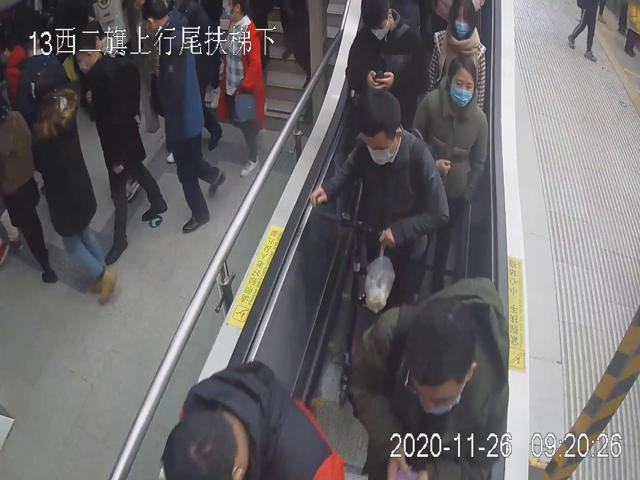person: (307, 84, 452, 320), (346, 273, 508, 480), (409, 53, 488, 295), (343, 0, 422, 125), (427, 2, 486, 114)
